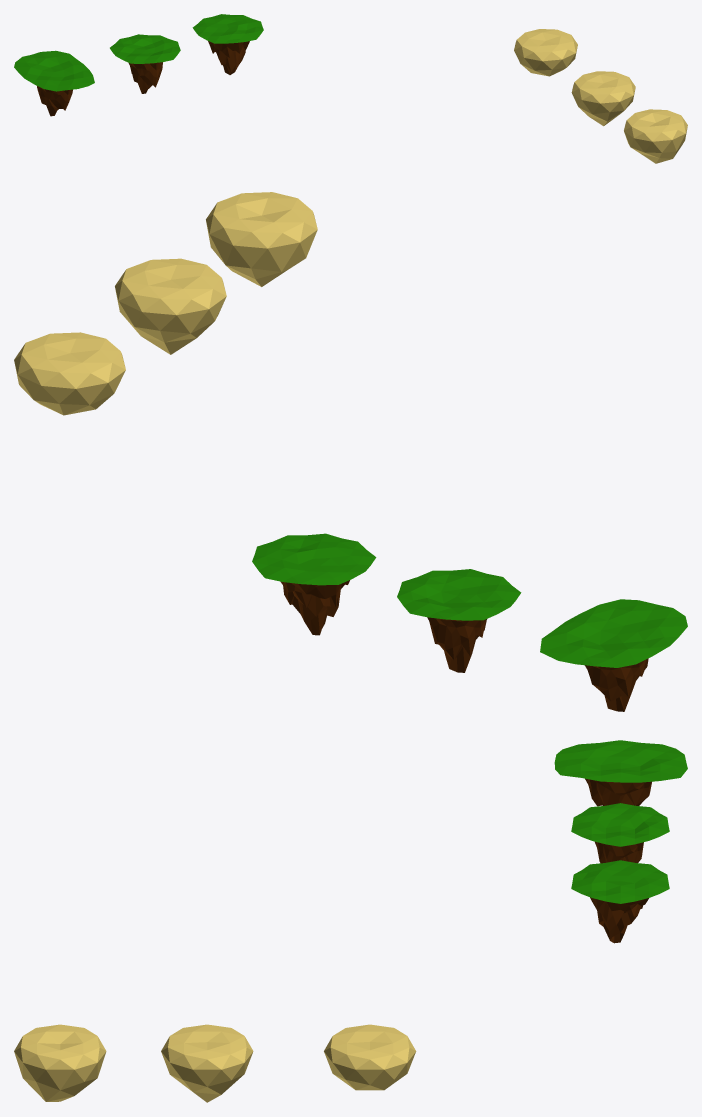
Rendered from Plattforms.fbx.
3 views of the same model, one above another, from view 1: azimuth 30°, elevation 25°; view 2: azimuth 150°, elevation 25°; view 3: azimuth 270°, elevation 25° (orthographic). The views are drawn at different scales.
Visible parts, largest first — view 1: Icosphere.011, Icosphere.014, Icosphere.013, Icosphere.008, Icosphere.012, Icosphere.007; view 2: Icosphere.011, Icosphere.014, Icosphere.013, Icosphere.012, Icosphere.008, Icosphere.007; view 3: Icosphere.011, Icosphere.014, Icosphere.013, Icosphere.012, Icosphere.008, Icosphere.007.
Boxes of the visible parts, x1,y1,x2,y2 form: Icosphere.011: [14, 50, 94, 116]; Icosphere.014: [624, 109, 687, 163]; Icosphere.013: [571, 71, 635, 126]; Icosphere.008: [192, 14, 263, 74]; Icosphere.012: [514, 29, 577, 76]; Icosphere.007: [110, 34, 180, 93]; Icosphere.011: [540, 599, 687, 711]; Icosphere.014: [206, 192, 317, 286]; Icosphere.013: [115, 258, 226, 354]; Icosphere.012: [14, 332, 125, 415]; Icosphere.008: [252, 533, 376, 635]; Icosphere.007: [397, 569, 521, 672]; Icosphere.011: [554, 740, 687, 806]; Icosphere.014: [14, 1024, 106, 1101]; Icosphere.013: [161, 1024, 253, 1102]; Icosphere.012: [324, 1024, 416, 1090]; Icosphere.008: [571, 860, 669, 943]; Icosphere.007: [571, 803, 669, 863].
Bounding box in the file's own units: 16177 × 1610 × 14572.
